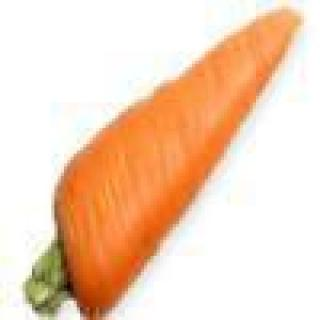Wortel: (20, 1, 308, 318)
